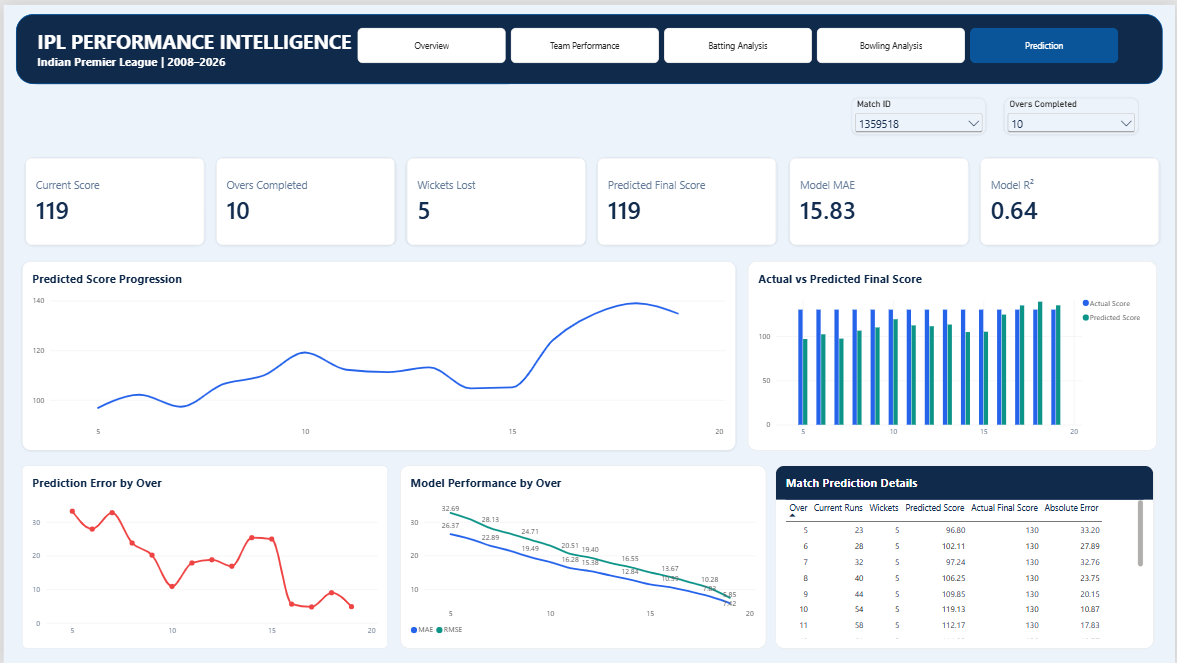

Layout of this report page (visuals, bound fields, positions):
{"tool":"powerbi","page":{"name":"Prediction","canvas":[1920,1080],"ordinal":4},"visuals":[{"type":"shape","box":[20,15,1880,115],"z":0},{"type":"textbox","box":[55,37,1834.4,93.3],"z":1000},{"type":"pageNavigator","box":[580,38,1250,58],"z":2000},{"type":"slicer","fields":{"Values":["ipl_predictions.match_id"]},"box":[1390,153,220,60],"z":3000},{"type":"slicer","fields":{"Values":["ipl_predictions.overs_completed"]},"box":[1640,153,220,60],"z":4000},{"type":"cardVisual","fields":{"Data":["Sum(model_metrics.R2)"]},"box":[1599.6,250.7,295,145],"z":5000},{"type":"cardVisual","fields":{"Data":["ipl_predictions.Prediction_Final_Score"]},"box":[973.6,250.7,295,145],"z":6000},{"type":"cardVisual","fields":{"Data":["Sum(ipl_predictions.predicted_score)"]},"box":[34.6,250.7,295,145],"z":7000},{"type":"cardVisual","fields":{"Data":["ipl_predictions.Prediction_Wickets"]},"box":[660.6,250.7,295,145],"z":8000},{"type":"cardVisual","fields":{"Data":["Sum(model_metrics.MAE)"]},"box":[1286.6,250.7,295,145],"z":9000},{"type":"cardVisual","fields":{"Data":["ipl_predictions.Prediction_Overs"]},"box":[347.6,250.7,295,145],"z":10000},{"type":"lineChart","title":"Predicted Score Progression","fields":{"Category":["ipl_predictions.overs_completed"],"Y":["Sum(ipl_predictions.predicted_score)"]},"box":[30,420,1170,310],"z":11000},{"type":"clusteredColumnChart","title":"Actual vs Predicted Final Score","fields":{"Category":["ipl_predictions.overs_completed"],"Y":["Sum(ipl_predictions.final_score)","Sum(ipl_predictions.predicted_score)"]},"box":[1220,420,670,310],"z":12000},{"type":"lineChart","title":"Prediction Error by Over","fields":{"Category":["ipl_predictions.overs_completed"],"Y":["Avg(ipl_predictions.absolute_error)"]},"box":[30,755,600,300],"z":13000},{"type":"lineChart","title":"Model Performance by Over","fields":{"Category":["over_performance.overs_completed"],"Y":["Avg(over_performance.MAE)","Avg(over_performance.RMSE)"]},"box":[650,755,600,300],"z":14000},{"type":"tableEx","title":"Match Prediction Details","fields":{"Values":["ipl_predictions.overs_completed","Sum(ipl_predictions.current_score)","Sum(ipl_predictions.wickets_lost)","Sum(ipl_predictions.predicted_score)","Sum(ipl_predictions.final_score)","Sum(ipl_predictions.absolute_error)"]},"box":[1265,755,620,300],"z":15000}]}

Visuals, with their boxes in screenshot pixels (x1, y1, x2, y2), scaled from the page's 1920x1080 canvas onto the 1177x663 screenshot:
shape: {"left": 12, "top": 9, "right": 1165, "bottom": 80}
textbox: {"left": 34, "top": 23, "right": 1158, "bottom": 80}
pageNavigator: {"left": 356, "top": 23, "right": 1122, "bottom": 59}
slicer - ipl_predictions.match_id: {"left": 852, "top": 94, "right": 987, "bottom": 131}
slicer - ipl_predictions.overs_completed: {"left": 1005, "top": 94, "right": 1140, "bottom": 131}
cardVisual - Sum(model_metrics.R2): {"left": 981, "top": 154, "right": 1161, "bottom": 243}
cardVisual - ipl_predictions.Prediction_Final_Score: {"left": 597, "top": 154, "right": 778, "bottom": 243}
cardVisual - Sum(ipl_predictions.predicted_score): {"left": 21, "top": 154, "right": 202, "bottom": 243}
cardVisual - ipl_predictions.Prediction_Wickets: {"left": 405, "top": 154, "right": 586, "bottom": 243}
cardVisual - Sum(model_metrics.MAE): {"left": 789, "top": 154, "right": 970, "bottom": 243}
cardVisual - ipl_predictions.Prediction_Overs: {"left": 213, "top": 154, "right": 394, "bottom": 243}
"Predicted Score Progression" lineChart: {"left": 18, "top": 258, "right": 736, "bottom": 448}
"Actual vs Predicted Final Score" clusteredColumnChart: {"left": 748, "top": 258, "right": 1159, "bottom": 448}
"Prediction Error by Over" lineChart: {"left": 18, "top": 463, "right": 386, "bottom": 648}
"Model Performance by Over" lineChart: {"left": 398, "top": 463, "right": 766, "bottom": 648}
"Match Prediction Details" tableEx: {"left": 775, "top": 463, "right": 1156, "bottom": 648}
